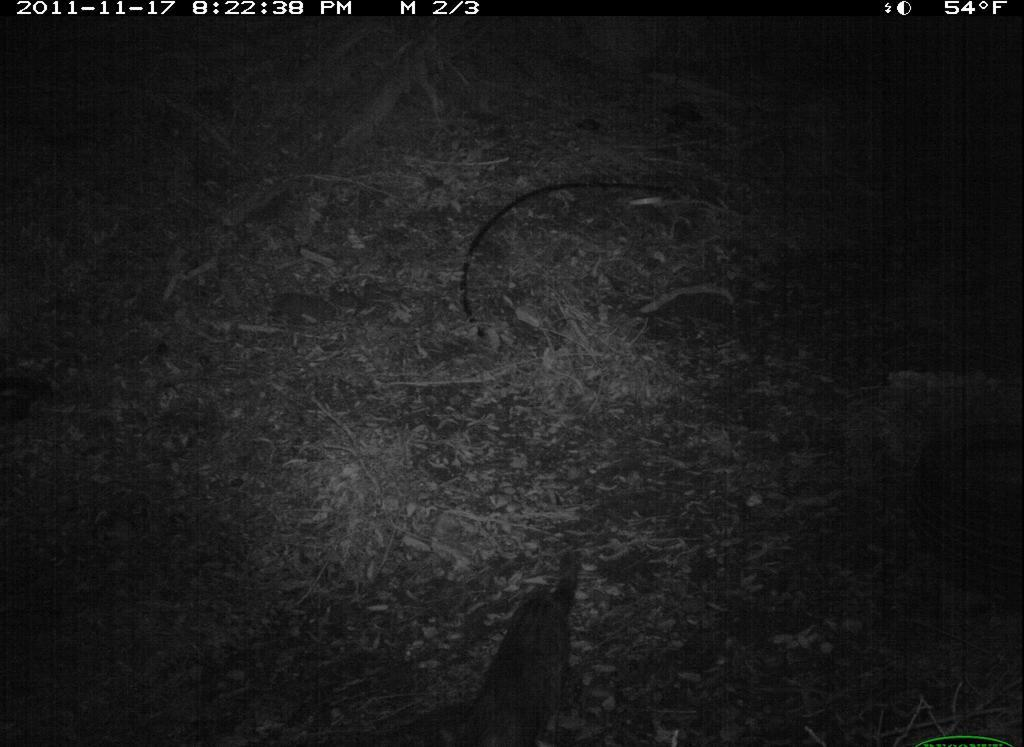cat: (457, 546, 593, 747)
